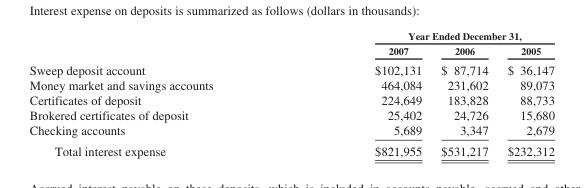table: (28, 29, 553, 157)
table column: (28, 29, 293, 157), (293, 29, 430, 157), (430, 29, 497, 157), (497, 29, 553, 157)
table column header: (28, 29, 553, 59)
table row: (28, 59, 553, 77), (28, 122, 553, 140), (28, 42, 553, 59), (28, 140, 553, 157), (28, 77, 553, 92), (28, 92, 553, 107), (28, 107, 553, 122), (28, 29, 553, 42)
table spanning cell: (293, 29, 553, 42)
